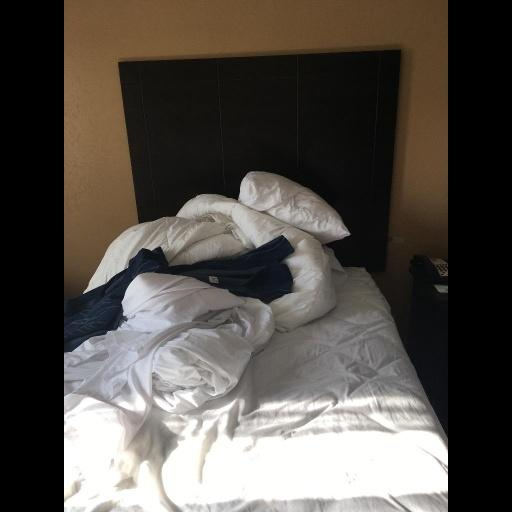mess: (166, 194, 337, 332), (112, 336, 230, 483)
messy_bed: (65, 52, 450, 509)
